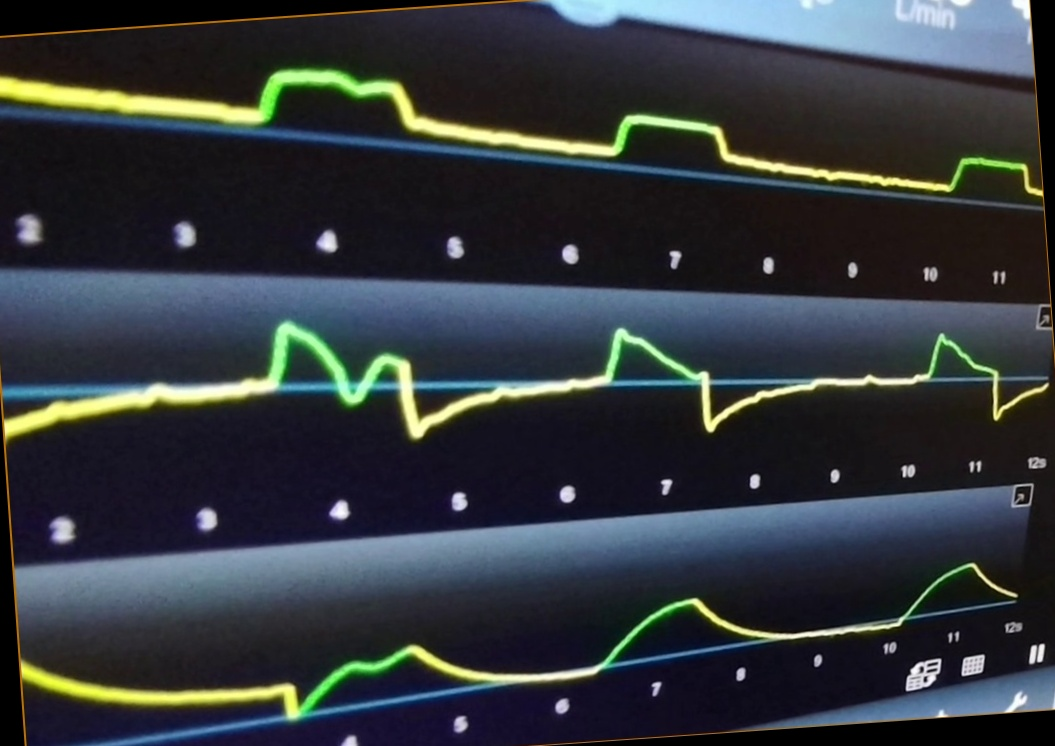Double_Triggering Flow: (12, 317, 1033, 446)
Double_Triggering Volume: (45, 562, 1013, 720)
